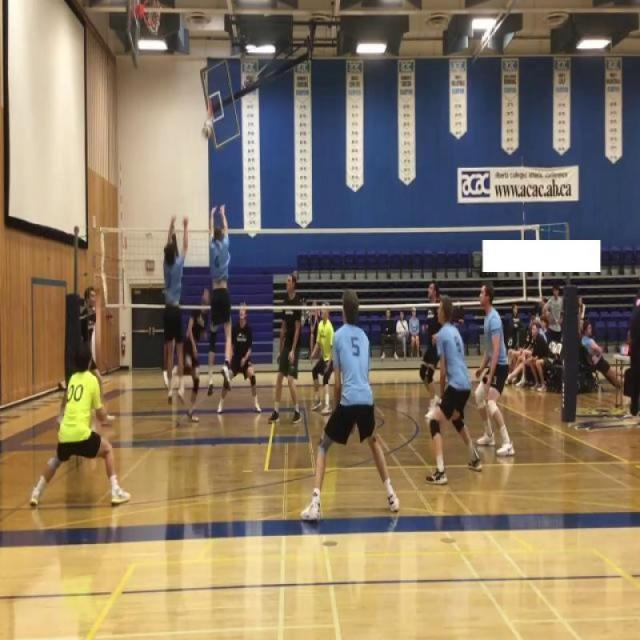volleyball: (201, 120, 212, 140)
